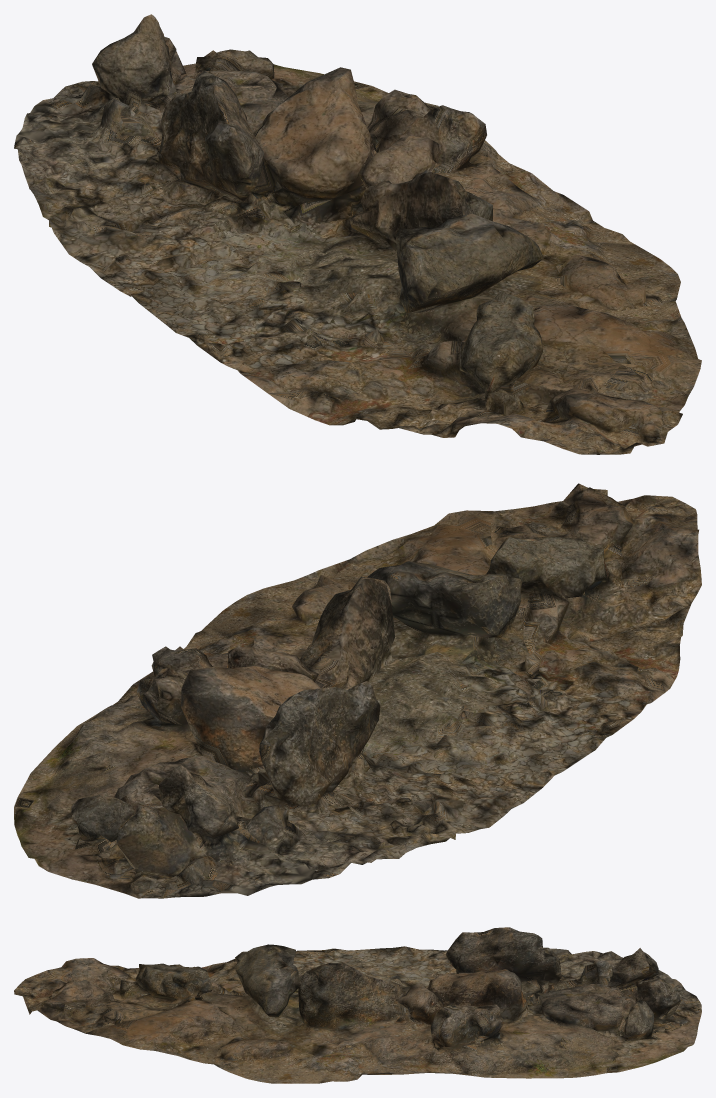
Rendered from coast_land_rocks_02.glb.
3 views of the same model, one above another, from view 1: azimuth 30°, elevation 25°; view 2: azimuth 150°, elevation 25°; view 3: azimuth 270°, elevation 25° (orthographic). The views are drawn at different scales.
Parts seen in each view (by area): view 1: coast_land_rocks_02; view 2: coast_land_rocks_02; view 3: coast_land_rocks_02.
Boxes of the visible parts, x1=… form: coast_land_rocks_02: x1=14, y1=14, x2=701, y2=454; coast_land_rocks_02: x1=14, y1=483, x2=701, y2=898; coast_land_rocks_02: x1=14, y1=927, x2=701, y2=1083.
Bounding box in the file's own units: 4.88 × 1.37 × 10.44.
1 material, 1 textured.
